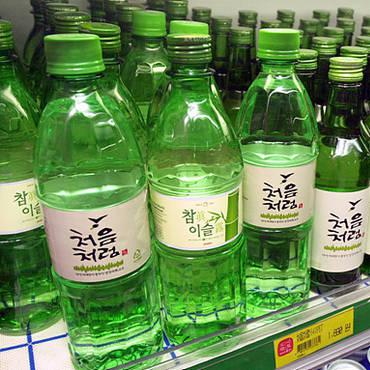soju: (2, 3, 367, 370)
